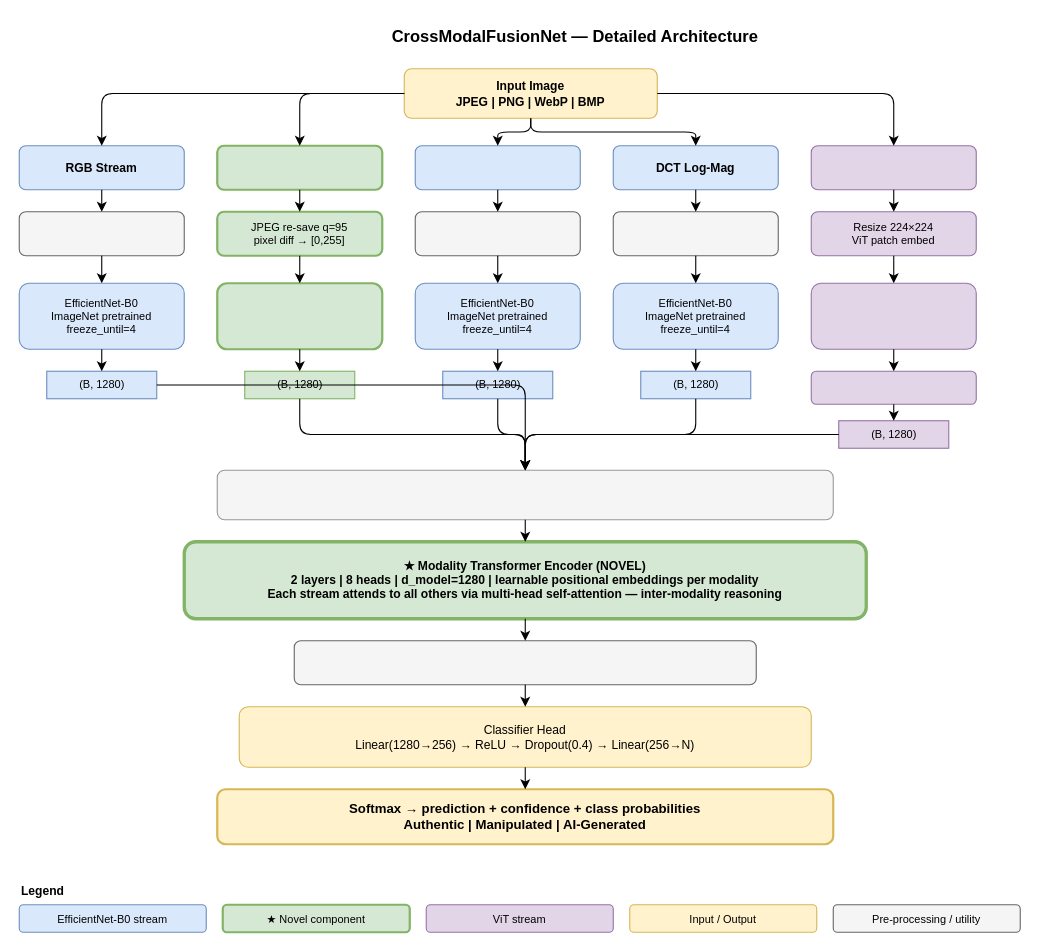
Some shapes in this 1040 by 952 pixel diagram are drawn without their labels. Here are the shapes that lost their labels. From the top down, the centre of each, then its label:
At point 299,167: "ELA Stream ★".
At point 497,167: "Noise Residual".
At point 893,167: "ViT Global".
At point 101,233: "Resize 224×224 Normalize ImageNet".
At point 497,233: "Gaussian blur(5,5) subtraction".
At point 695,233: "log|DCT(gray)| normalize".
At point 299,316: "EfficientNet-B0 ImageNet pretrained freeze_until=4 ★".
At point 893,315: "ViT-B/16 google/vit-base-patch16-224 CLS token → (B, 768)".
At point 893,387: "vit_proj: Linear(768→1280)".
At point 524,494: "Stack: 5 × (B, 1280) → (B, 5, 1280)".
At point 524,662: "Mean Pool over modality dimension → (B, 1280)".
